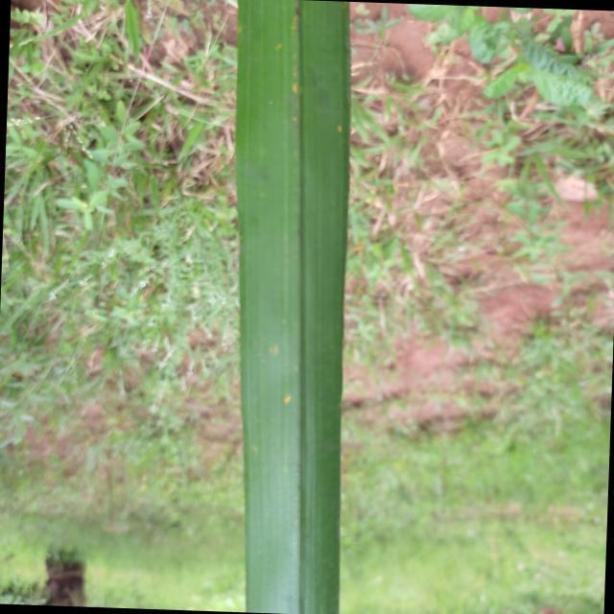Kalium: (238, 0, 354, 614)
